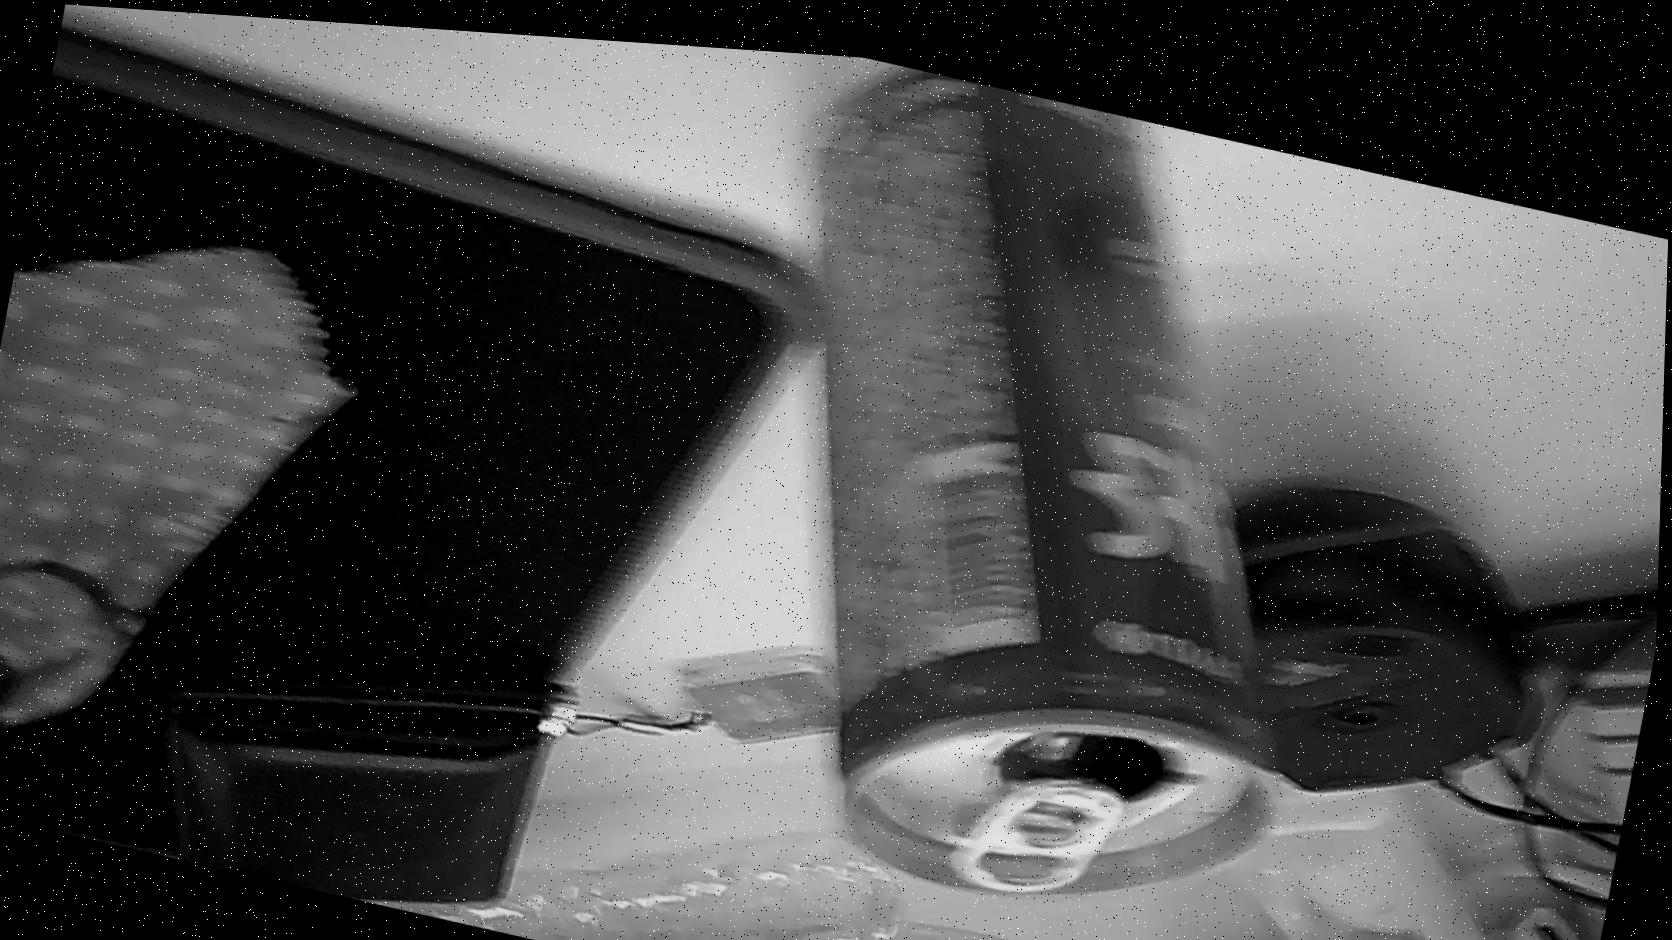letsbe: (678, 37, 1400, 940)
